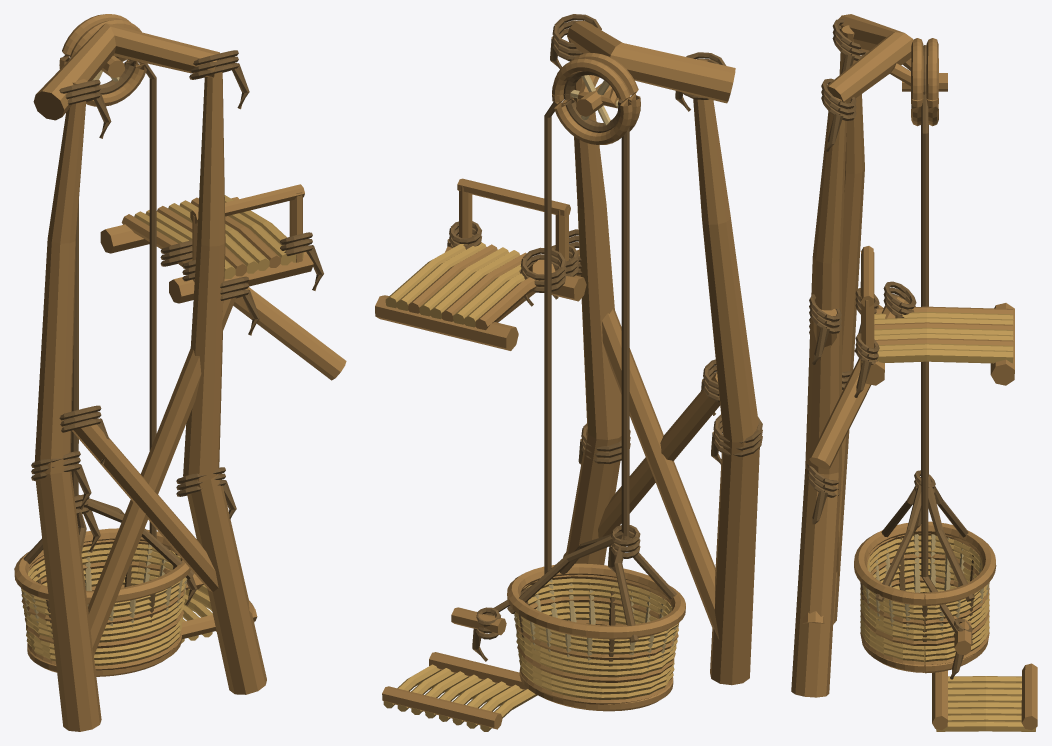
The model's file is hauling-basket.glb.
3 renders of one model, left to right at view 1: azimuth 30°, elevation 25°; view 2: azimuth 150°, elevation 25°; view 3: azimuth 270°, elevation 25°, orthographic. The views are drawn at different scales.
Parts seen in each view (by area): view 1: hauling-frame-weave, hauling-basket-weave, hauling-landing-weave, lift-rope-fiber; view 2: hauling-frame-weave, hauling-basket-weave, hauling-landing-weave, lift-rope-fiber; view 3: hauling-frame-weave, hauling-basket-weave, hauling-landing-weave, lift-rope-fiber.
Boxes of the visible parts, bbox=[...] form: hauling-frame-weave: bbox=[31, 14, 346, 731]; hauling-basket-weave: bbox=[14, 494, 194, 676]; hauling-landing-weave: bbox=[100, 184, 323, 303]; lift-rope-fiber: bbox=[71, 201, 78, 496]; hauling-frame-weave: bbox=[382, 14, 762, 731]; hauling-basket-weave: bbox=[507, 525, 685, 711]; hauling-landing-weave: bbox=[375, 178, 586, 350]; lift-rope-fiber: bbox=[621, 126, 629, 536]; hauling-frame-weave: bbox=[791, 14, 1037, 731]; hauling-basket-weave: bbox=[854, 470, 996, 673]; hauling-landing-weave: bbox=[854, 246, 1014, 397]; lift-rope-fiber: bbox=[921, 124, 928, 476].
Bounding box in the file's own units: 1.76 × 3.6 × 1.29.
